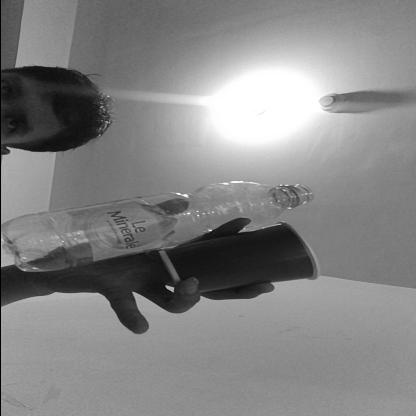objects: (154, 223, 324, 294)
plastic_bottles: (0, 182, 316, 271)
